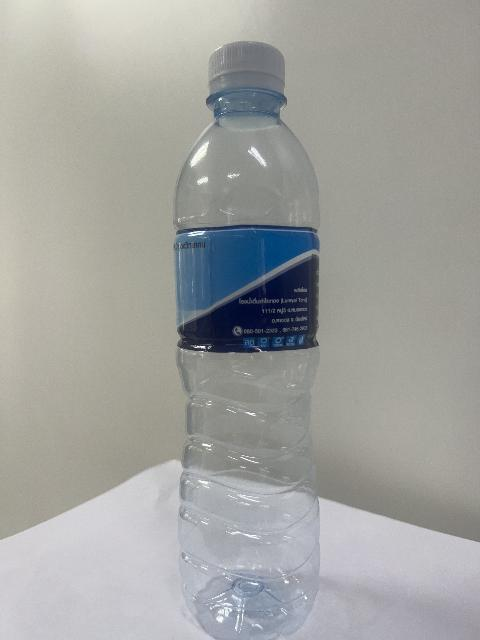bottle: (174, 42, 319, 639)
